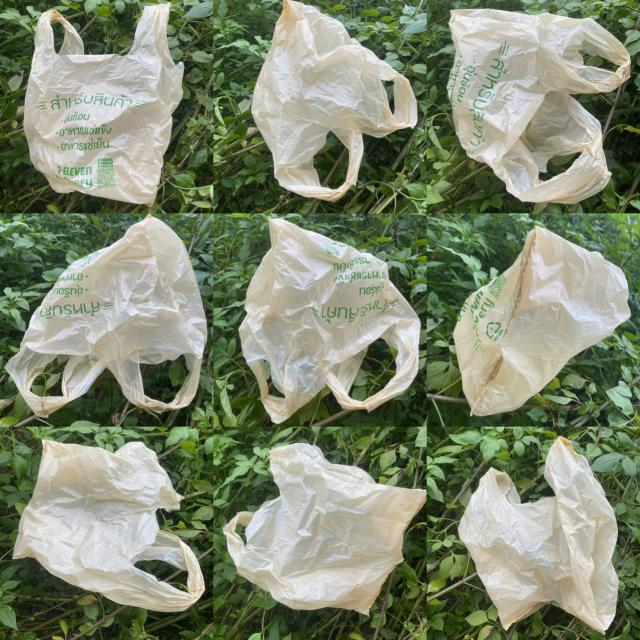Single-layer Plastic: (6, 216, 208, 416), (239, 219, 420, 423), (448, 9, 630, 203), (224, 444, 426, 614), (251, 0, 418, 201), (454, 226, 630, 416), (14, 440, 205, 612), (24, 4, 184, 204), (459, 438, 619, 632)
